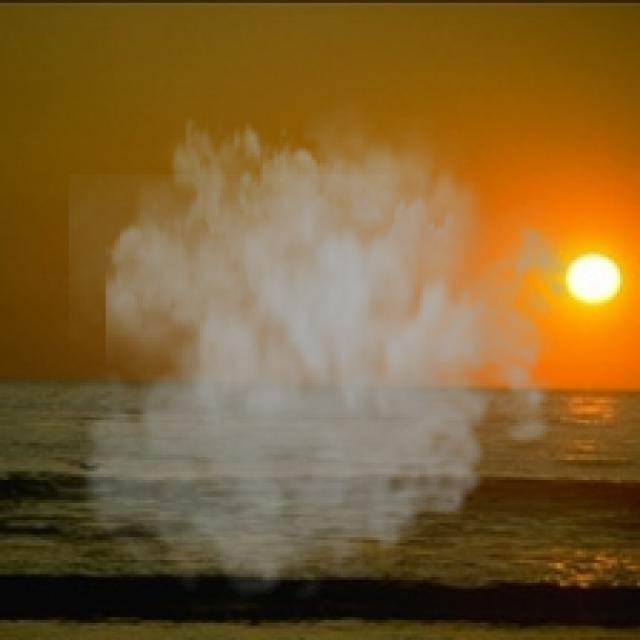smoke: (69, 83, 586, 611)
